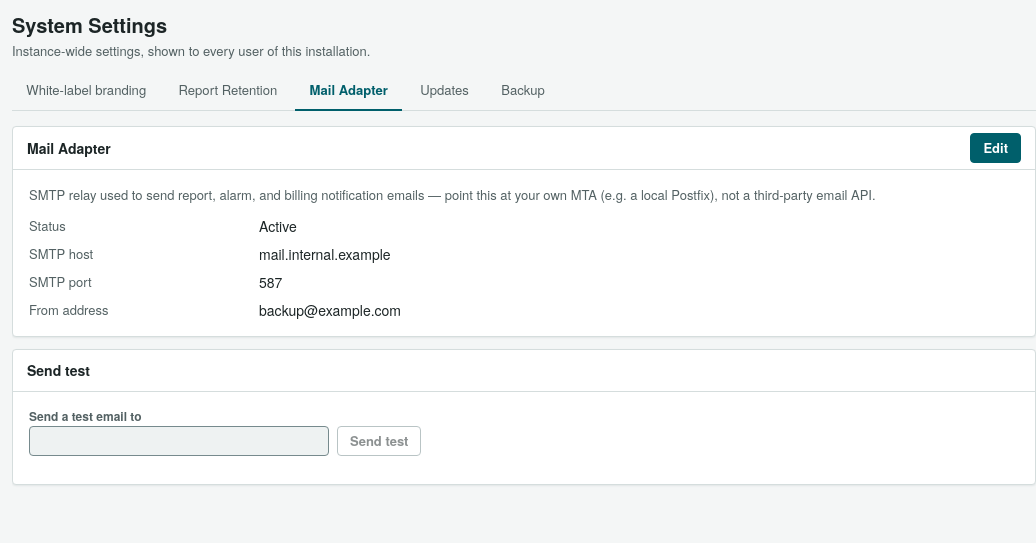
Test case: SystemSettingsPage — mail adapter › sends a test email and shows the result
expect the text "mail.internal.example" is shown: met, box [259,244,391,264]
// The test-send form is its own panel next to the settings (2026-10-04).
Type "admin@example.com" into the field labelled "Send a test email to".
click(179, 440); type("admin@example.com")  # box [29,426,329,456]
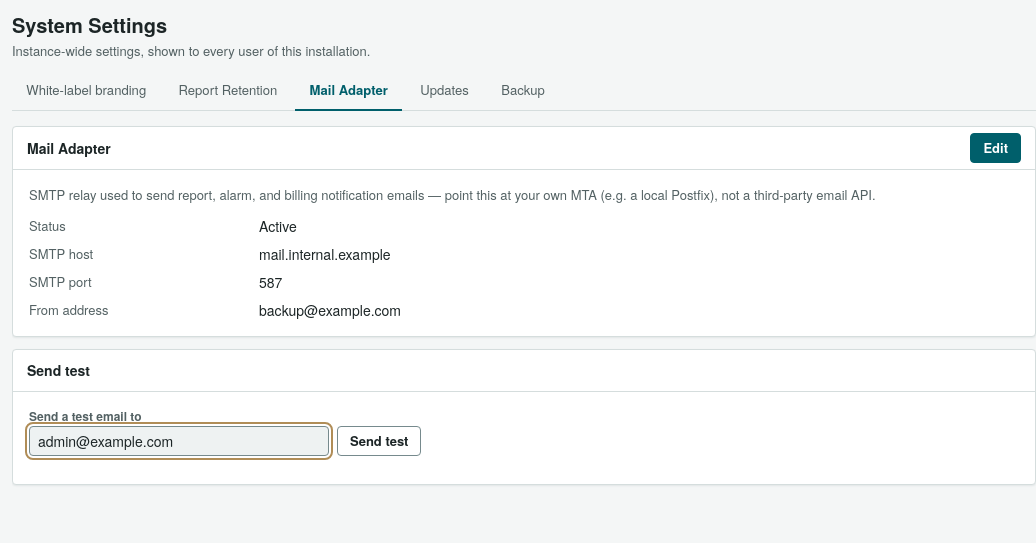
Click the button "Send test".
click(379, 440)  # box [337,426,422,456]
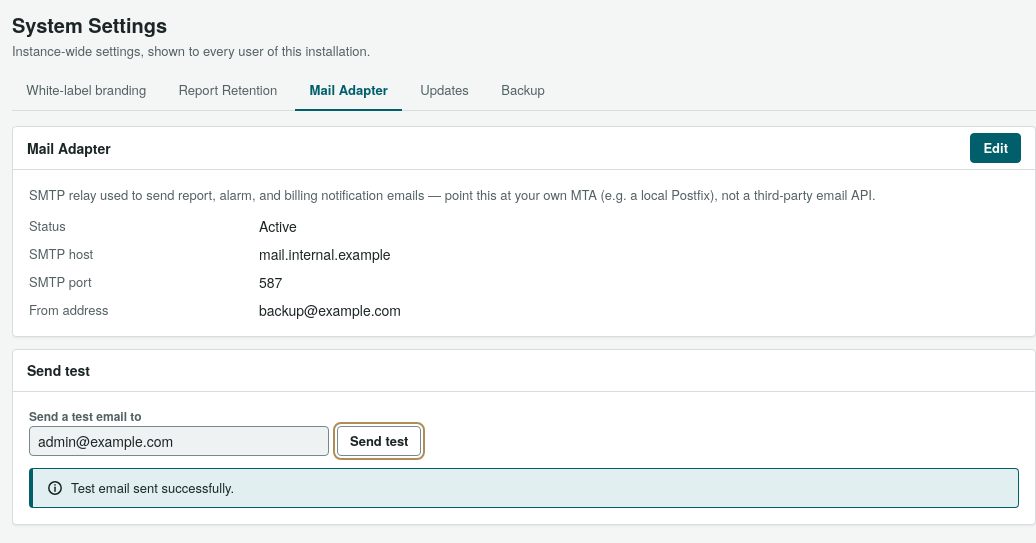
expect the text "Test email sent successfully." is shown: met, box [71,478,234,496]
